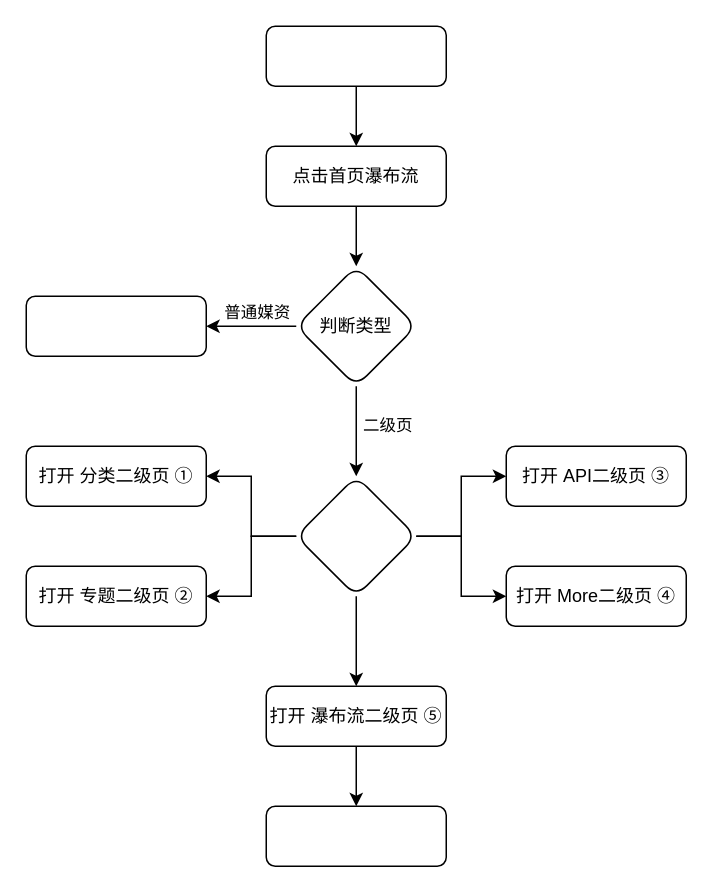
Image size: 713x893. Some labels were removed from this diagram. The centre of each missing label's shape, as x and y in pixels:
Go On ...: [355,835]
判断 二级页 类型: [355,535]
启动 Launcher 首页 或 App 首页: [355,55]
打开媒资: [115,325]
